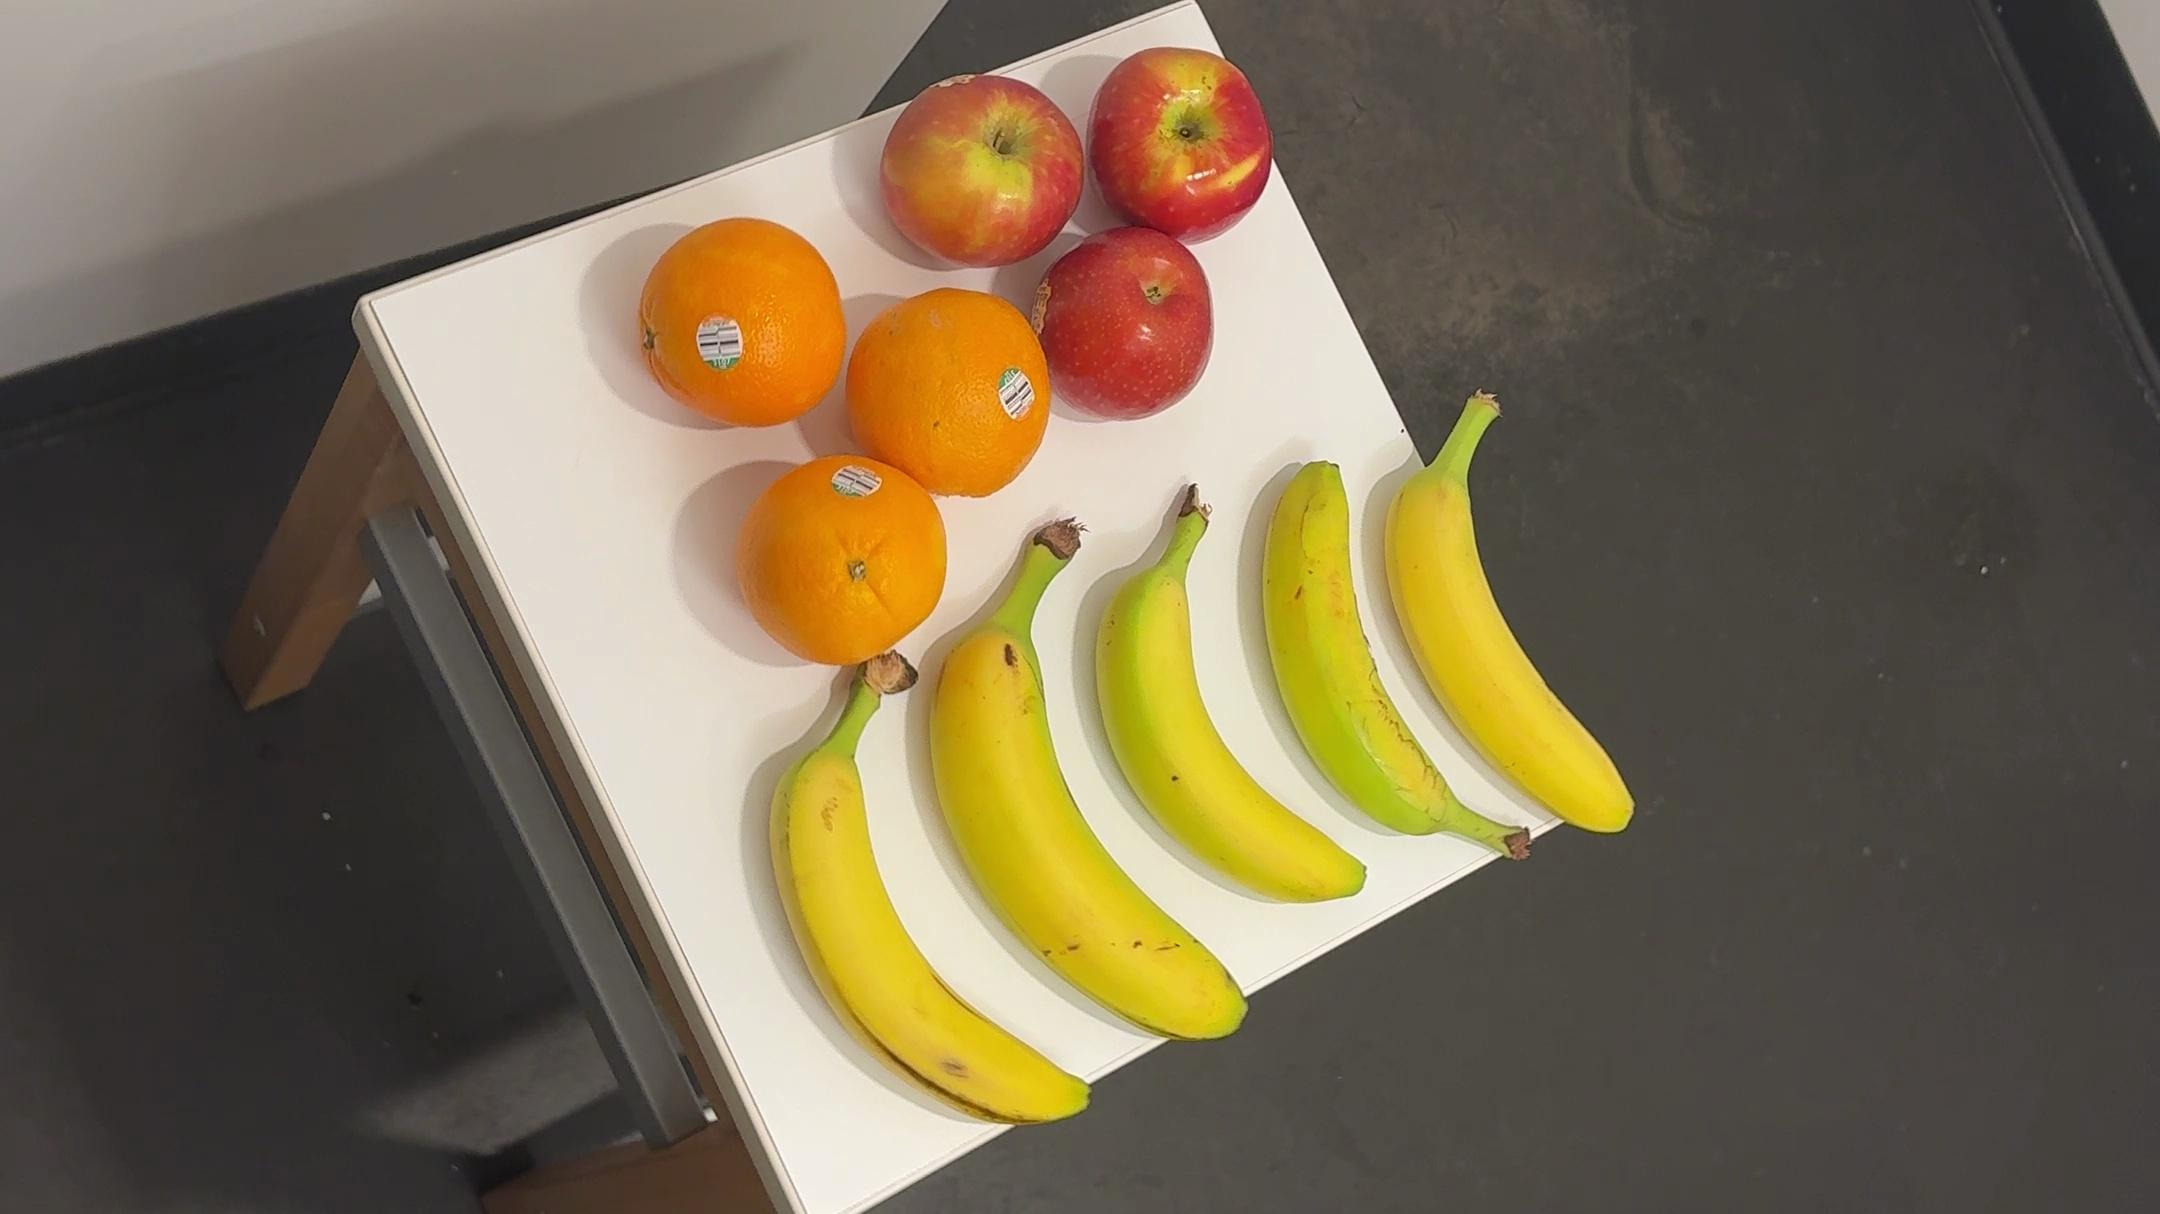apple: (877, 73, 1080, 275), (1090, 47, 1291, 240), (1037, 227, 1222, 427)
banana: (912, 521, 1258, 1054), (751, 652, 1108, 1131), (1083, 475, 1372, 926), (1248, 457, 1538, 882), (1377, 389, 1645, 844)
orange: (843, 285, 1065, 505), (645, 215, 846, 436), (751, 451, 944, 666)
